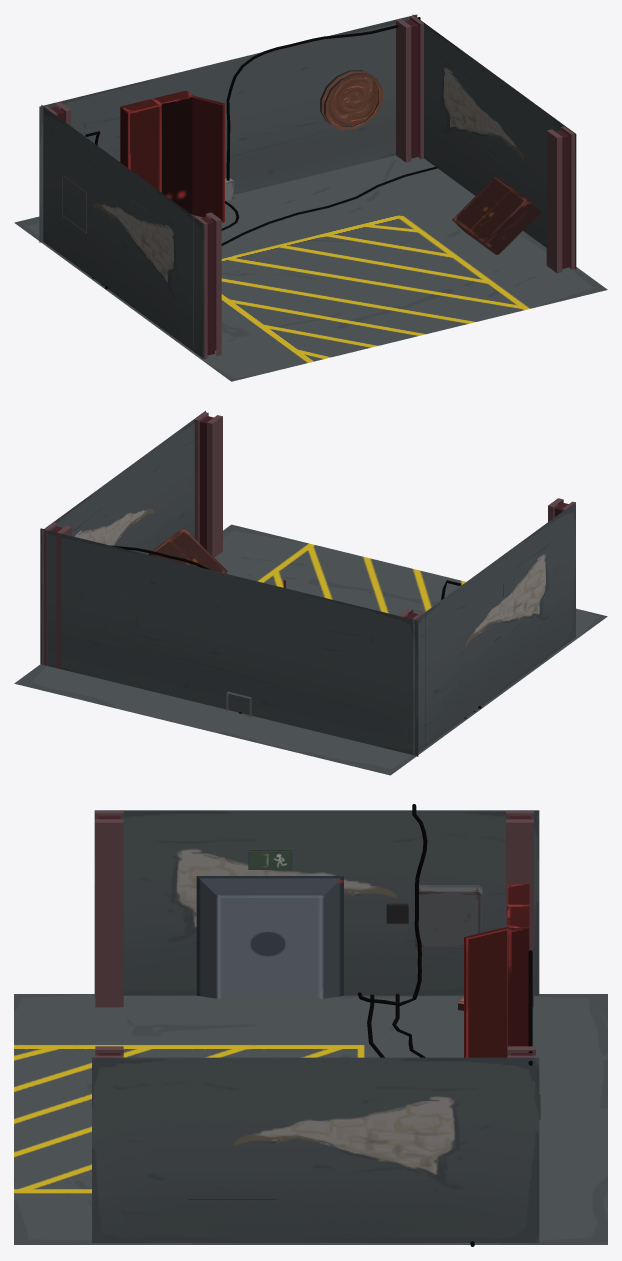
File: Environment_Model.fbx
3 views of the same model, one above another, from view 1: azimuth 30°, elevation 25°; view 2: azimuth 150°, elevation 25°; view 3: azimuth 270°, elevation 25° (orthographic). The views are drawn at different scales.
Parts seen in each view (by area): view 1: pPlane7; view 2: pPlane7; view 3: pPlane7.
Boxes of the visible parts, box(x1,y1,x2,y2) form: pPlane7: box(14, 14, 607, 381); pPlane7: box(14, 410, 607, 775); pPlane7: box(14, 804, 607, 1246).
Bounding box in the file's own units: 403 × 146 × 400.
